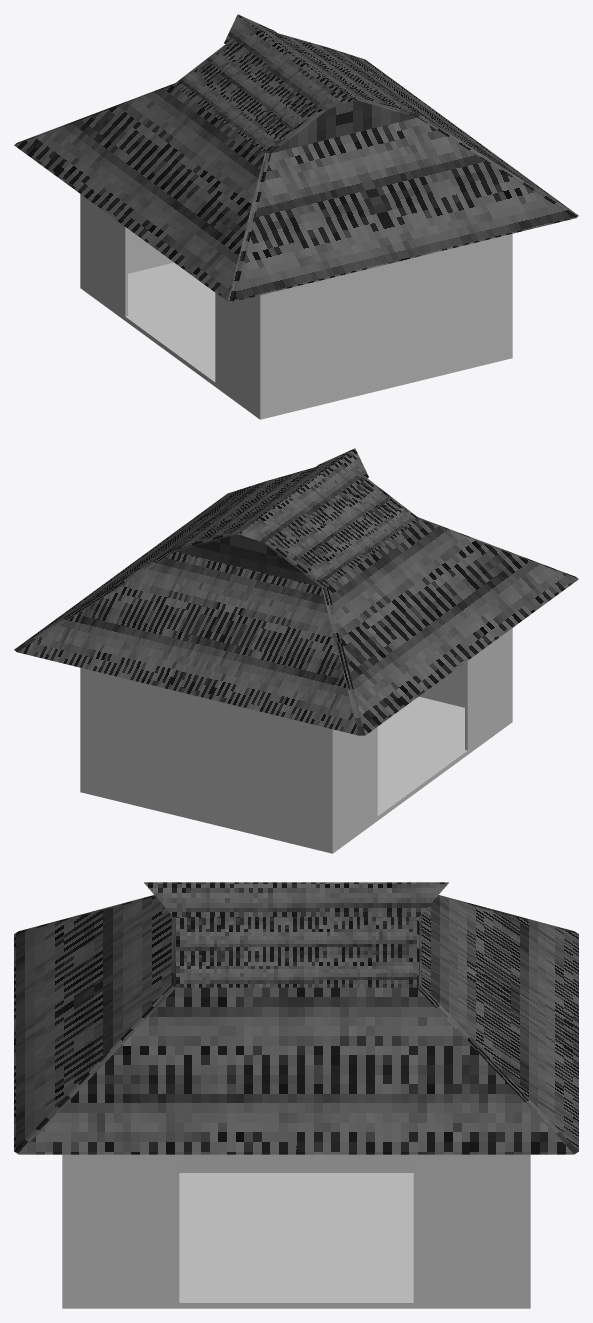
File: house.fbx
3 renders of one model, top to bottom at view 1: azimuth 30°, elevation 25°; view 2: azimuth 150°, elevation 25°; view 3: azimuth 270°, elevation 25°, orthographic. The views are drawn at different scales.
Parts seen in each view (by area): view 1: newRoom; view 2: newRoom; view 3: newRoom.
Boxes of the visible parts, left/top/right/bottom form: newRoom: left=14, top=14, right=578, bottom=419; newRoom: left=14, top=448, right=578, bottom=853; newRoom: left=14, top=882, right=578, bottom=1308.
Bounding box in the file's own units: 278 × 201 × 298.
